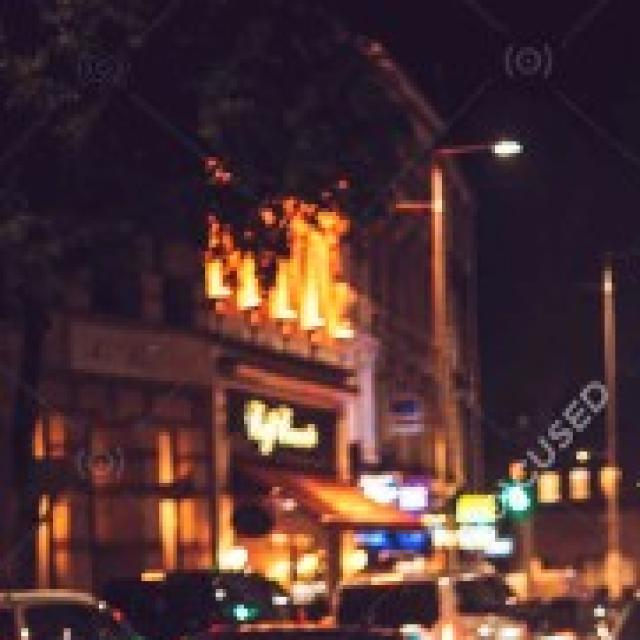car: (336, 557, 548, 640), (0, 616, 467, 640), (573, 569, 640, 640)
